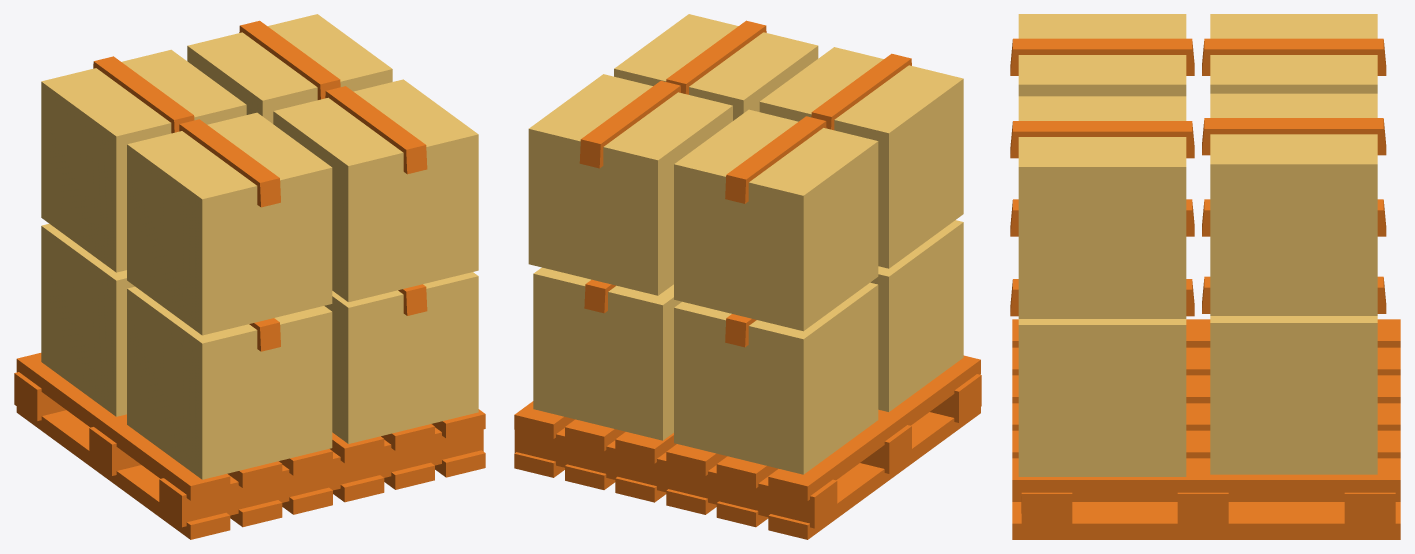
The model's file is BoxPallet.fbx.
3 renders of one model, left to right at view 1: azimuth 30°, elevation 25°; view 2: azimuth 150°, elevation 25°; view 3: azimuth 270°, elevation 25°, orthographic. The views are drawn at different scales.
Parts seen in each view (by area): view 1: Cube.003, Cube.005, Cube.001, Cube.002, Cube.056, Cube.055, Cube.004, Cube.006, Cube.054, Cube.013, Cube.008, Cube.007 (+10 smaller); view 2: Cube.002, Cube.055, Cube.004, Cube.003, Cube.173, Cube.001, Cube.005, Cube.007, Cube.054, Cube.013, Cube.006, Cube.008 (+10 smaller); view 3: Cube.005, Cube.055, Cube.173, Cube.056, Cube.003, Cube.002, Cube.009, Cube.010, Cube.008, Cube.007, Cube.006, Cube.054 (+7 smaller).
Boxes of the visible parts, x1,y1,x2,y2 form: Cube.003: (127, 112, 332, 335); Cube.005: (273, 79, 478, 302); Cube.001: (127, 286, 332, 479); Cube.002: (41, 49, 246, 272); Cube.056: (324, 272, 478, 443); Cube.055: (187, 14, 392, 123); Cube.004: (41, 223, 134, 416); Cube.006: (159, 427, 483, 527); Cube.054: (16, 353, 230, 500); Cube.013: (16, 406, 230, 539); Cube.008: (89, 427, 140, 475); Cube.007: (14, 372, 65, 421); Cube.002: (674, 109, 878, 331); Cube.055: (528, 74, 732, 295); Cube.004: (674, 282, 878, 474); Cube.003: (759, 47, 963, 268); Cube.173: (533, 267, 681, 440); Cube.001: (870, 220, 963, 411); Cube.005: (614, 14, 818, 120); Cube.007: (514, 428, 837, 528); Cube.054: (768, 355, 980, 500); Cube.013: (768, 407, 980, 539); Cube.006: (930, 374, 981, 422); Cube.008: (860, 425, 911, 473); Cube.005: (1010, 96, 1194, 318); Cube.055: (1202, 93, 1386, 315); Cube.173: (1202, 276, 1386, 474); Cube.056: (1010, 279, 1194, 476); Cube.003: (1010, 14, 1194, 96); Cube.002: (1202, 14, 1386, 93); Cube.009: (1012, 502, 1400, 539); Cube.010: (1012, 458, 1400, 496); Cube.008: (1177, 492, 1228, 528); Cube.007: (1344, 492, 1395, 528); Cube.006: (1021, 492, 1072, 528); Cube.054: (1012, 319, 1400, 347).
Size of the model in its own units: 230 by 247 by 231.
